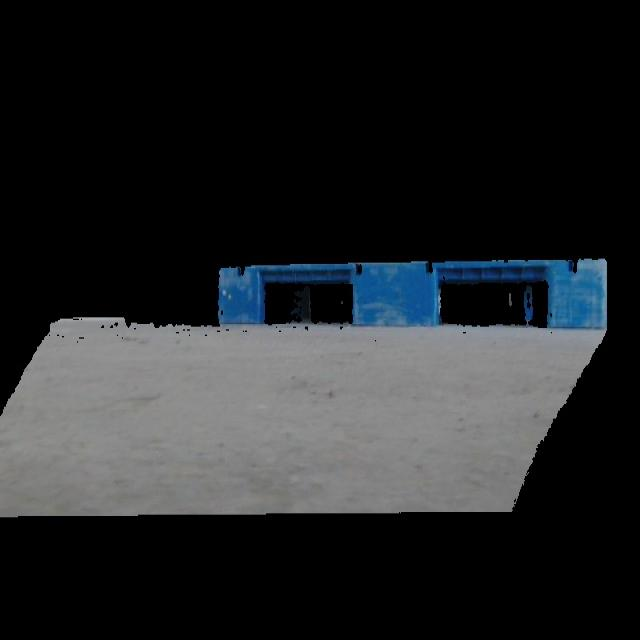block: (349, 261, 439, 330), (540, 255, 609, 326), (215, 265, 268, 327)
front: (217, 253, 607, 335)
